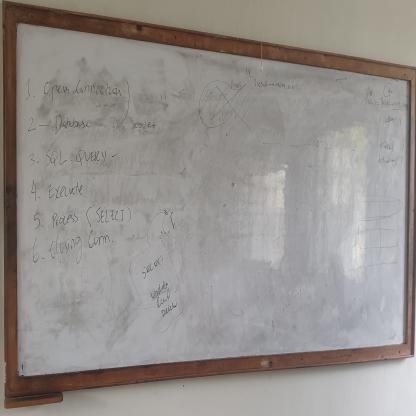Handwritten text: (117, 248, 168, 336), (39, 69, 112, 109), (42, 229, 104, 272), (41, 140, 101, 176), (47, 106, 88, 138), (42, 175, 77, 206), (85, 198, 114, 228), (44, 203, 73, 228)
Whiteboard: (13, 17, 416, 389)
